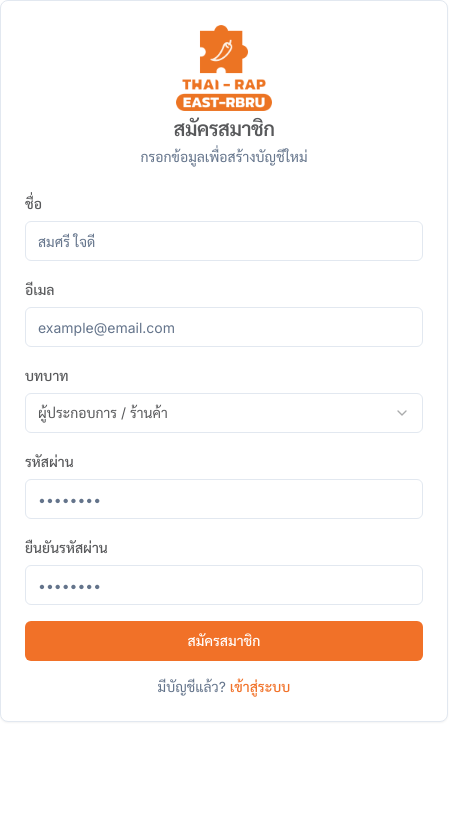
Test: RegisterForm › shows validation errors when submitted empty
Step 1. Click the button "สมัครสมาชิก" → (224, 641), box left=25, top=621, right=423, bottom=661
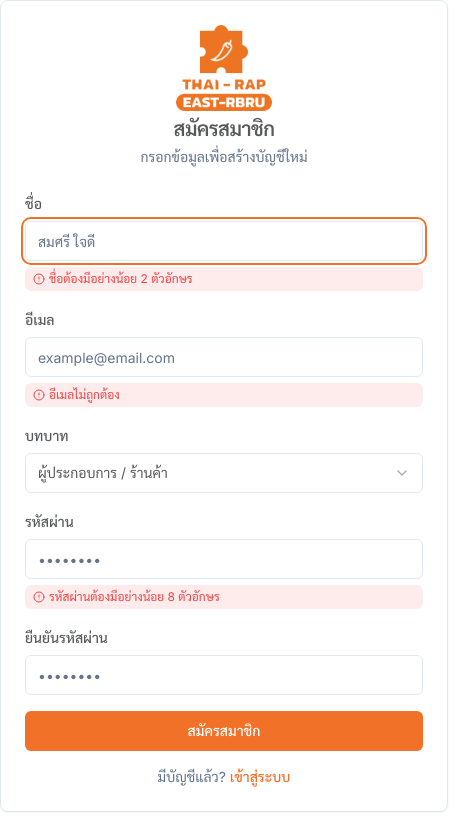
Expected: the text "ชื่อต้องมีอย่างน้อย 2 ตัวอักษร" is shown, left=25, top=267, right=423, bottom=291
Expected: the text "อีเมลไม่ถูกต้อง" is shown, left=25, top=383, right=423, bottom=407
Expected: the text "รหัสผ่านต้องมีอย่างน้อย 8 ตัวอักษร" is shown, left=25, top=585, right=423, bottom=609
